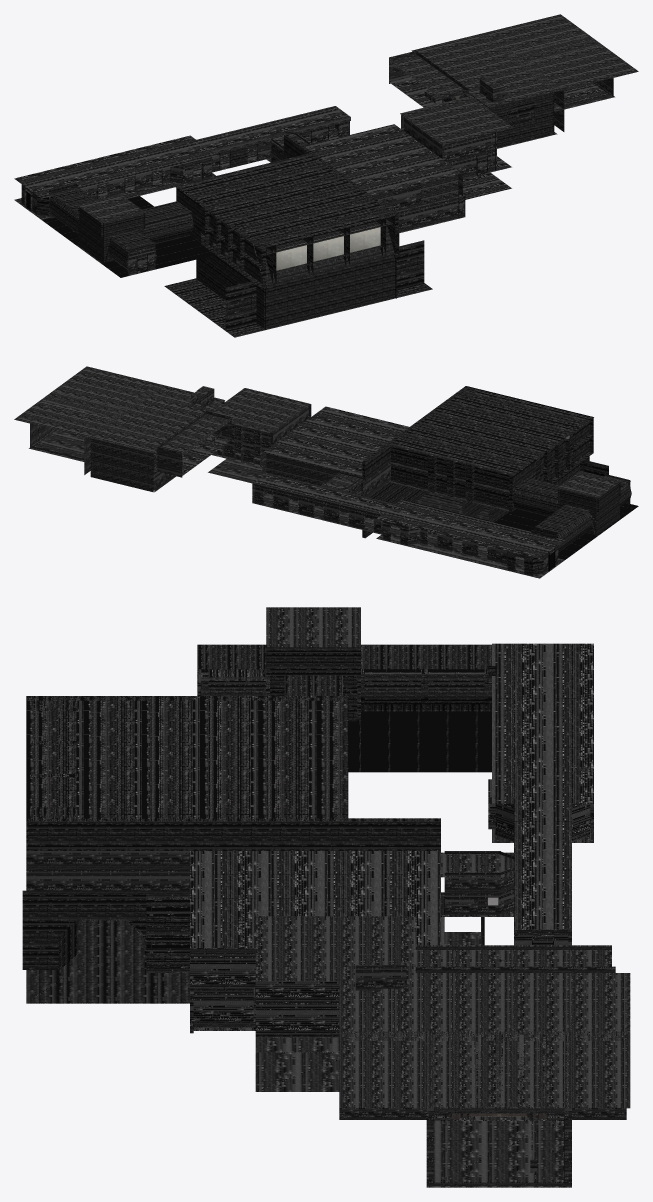
The model's file is 173bright.obj.
3 renders of one model, top to bottom at view 1: azimuth 30°, elevation 25°; view 2: azimuth 150°, elevation 25°; view 3: azimuth 270°, elevation 25°, orthographic. The views are drawn at different scales.
Size of the model in its own units: 10497 by 1784 by 5344.
